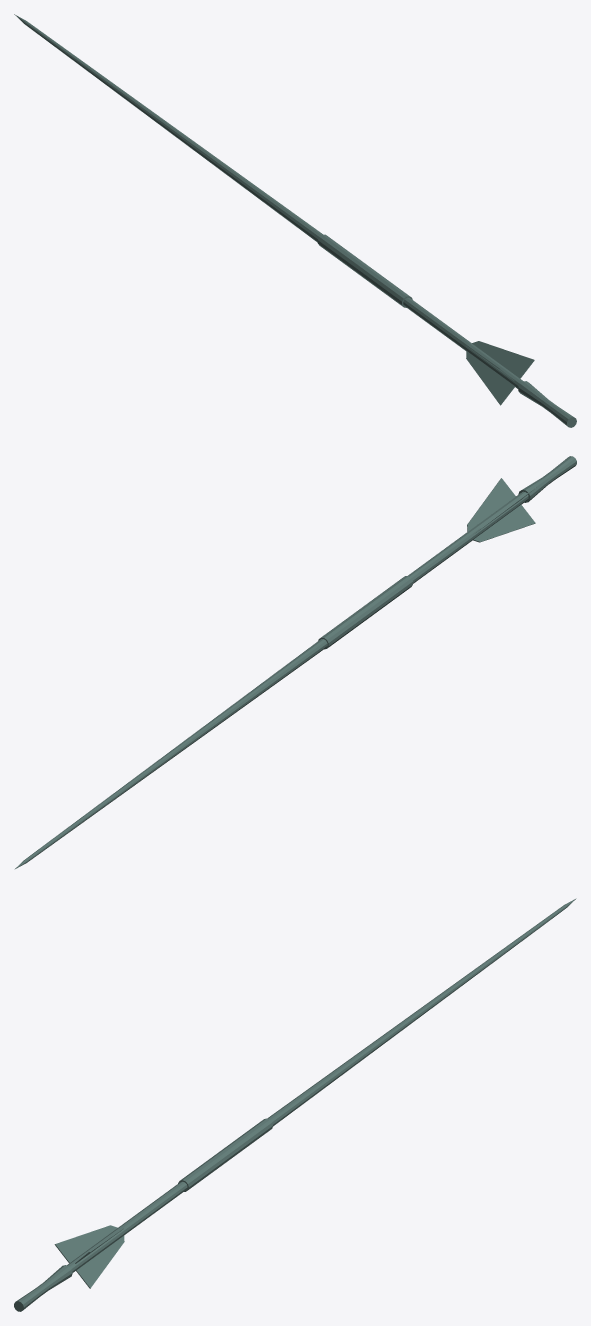
Rendered from Flecha (1).fbx.
3 views of the same model, one above another, from view 1: azimuth 30°, elevation 25°; view 2: azimuth 150°, elevation 25°; view 3: azimuth 330°, elevation 25° (orthographic).
Visible parts, largest first — view 1: polySurface25; view 2: polySurface25; view 3: polySurface25.
Part boxes in pixels (x1,y1,x2,y2): polySurface25: (14,14,576,427); polySurface25: (14,456,576,869); polySurface25: (14,898,576,1311).
Size of the model in its own units: 0.0661 by 0.0661 by 1.77.
